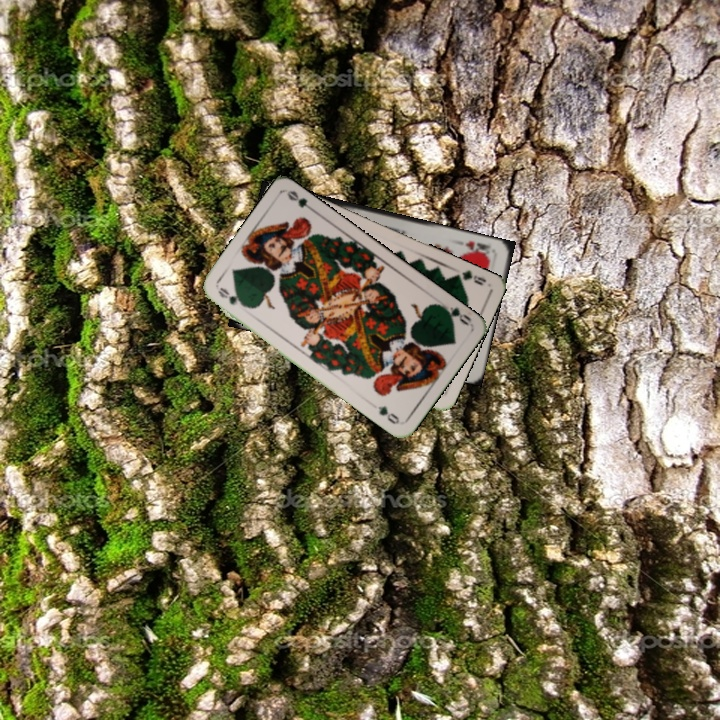G9: (449, 266, 489, 288)
GO: (436, 301, 474, 328), (214, 283, 251, 310)
HK: (461, 237, 493, 259)
